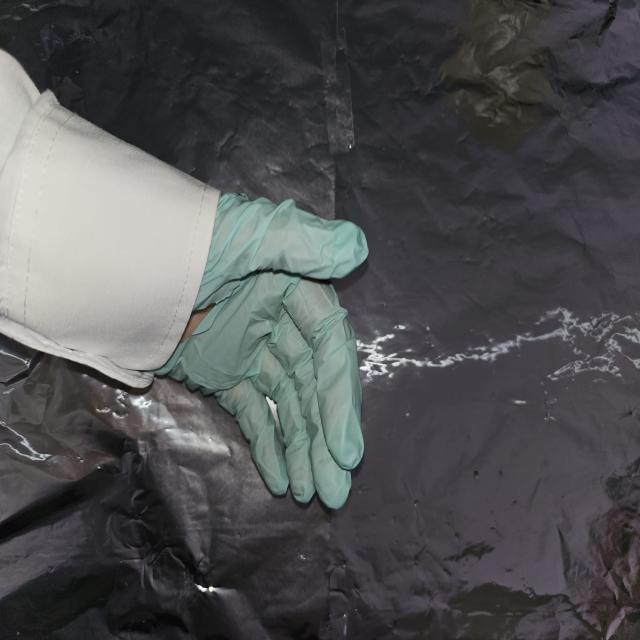gloves_damaged: (154, 190, 368, 510)
